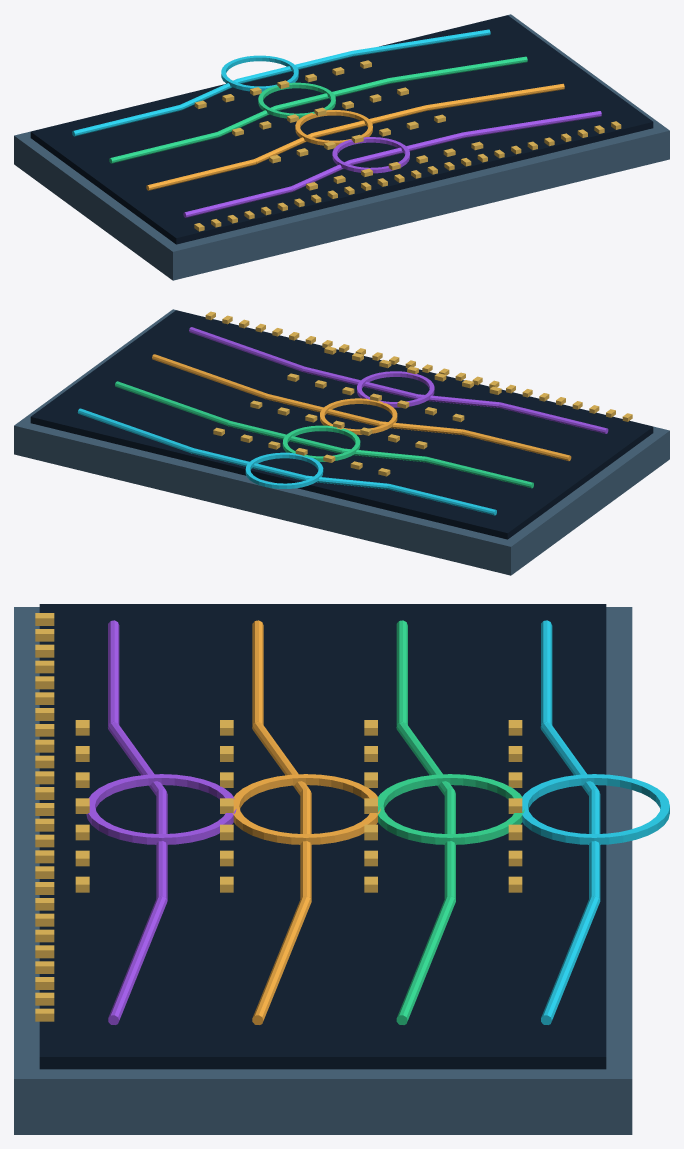
The model's file is 04_L80_CoPackagedSiliconPhotonicInterposer.fbx.
3 views of the same model, one above another, from view 1: azimuth 30°, elevation 25°; view 2: azimuth 150°, elevation 25°; view 3: azimuth 270°, elevation 25° (orthographic). The views are drawn at different scales.
Parts seen in each view (by area): view 1: CoPackagedSiliconPhotonicInterposer; view 2: CoPackagedSiliconPhotonicInterposer; view 3: CoPackagedSiliconPhotonicInterposer.
Part boxes in pixels (x1,y1,x2,y2): CoPackagedSiliconPhotonicInterposer: [14, 14, 669, 280]; CoPackagedSiliconPhotonicInterposer: [14, 309, 669, 575]; CoPackagedSiliconPhotonicInterposer: [14, 604, 669, 1134].
Size of the model in its own units: 325 by 28.25 by 191.
